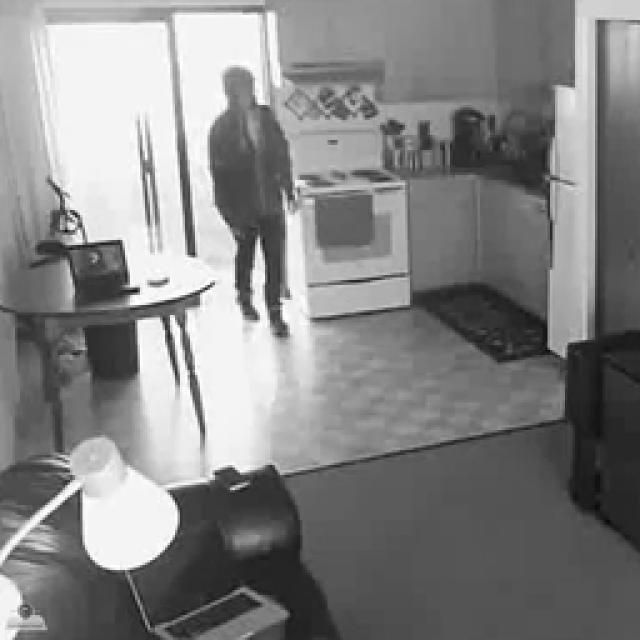Invader: (205, 62, 297, 338)
